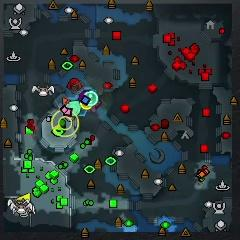Other: (84, 91, 99, 107), (80, 102, 92, 110)
p2: (66, 99, 81, 117)
p3: (78, 89, 89, 99)
p4: (18, 191, 31, 202)
p5: (62, 97, 70, 105)
